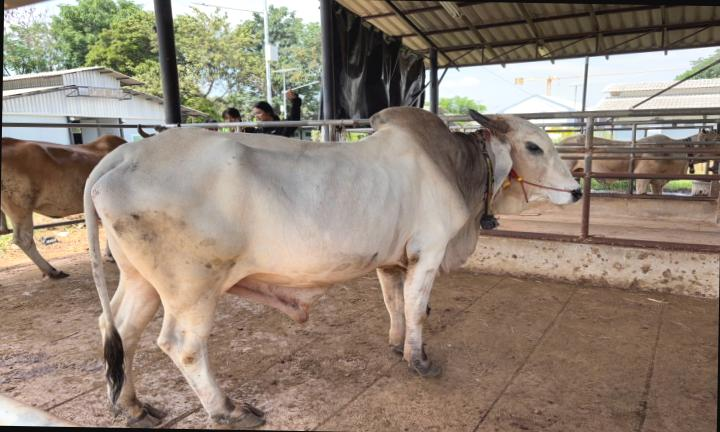Brahman: (82, 107, 581, 427)
